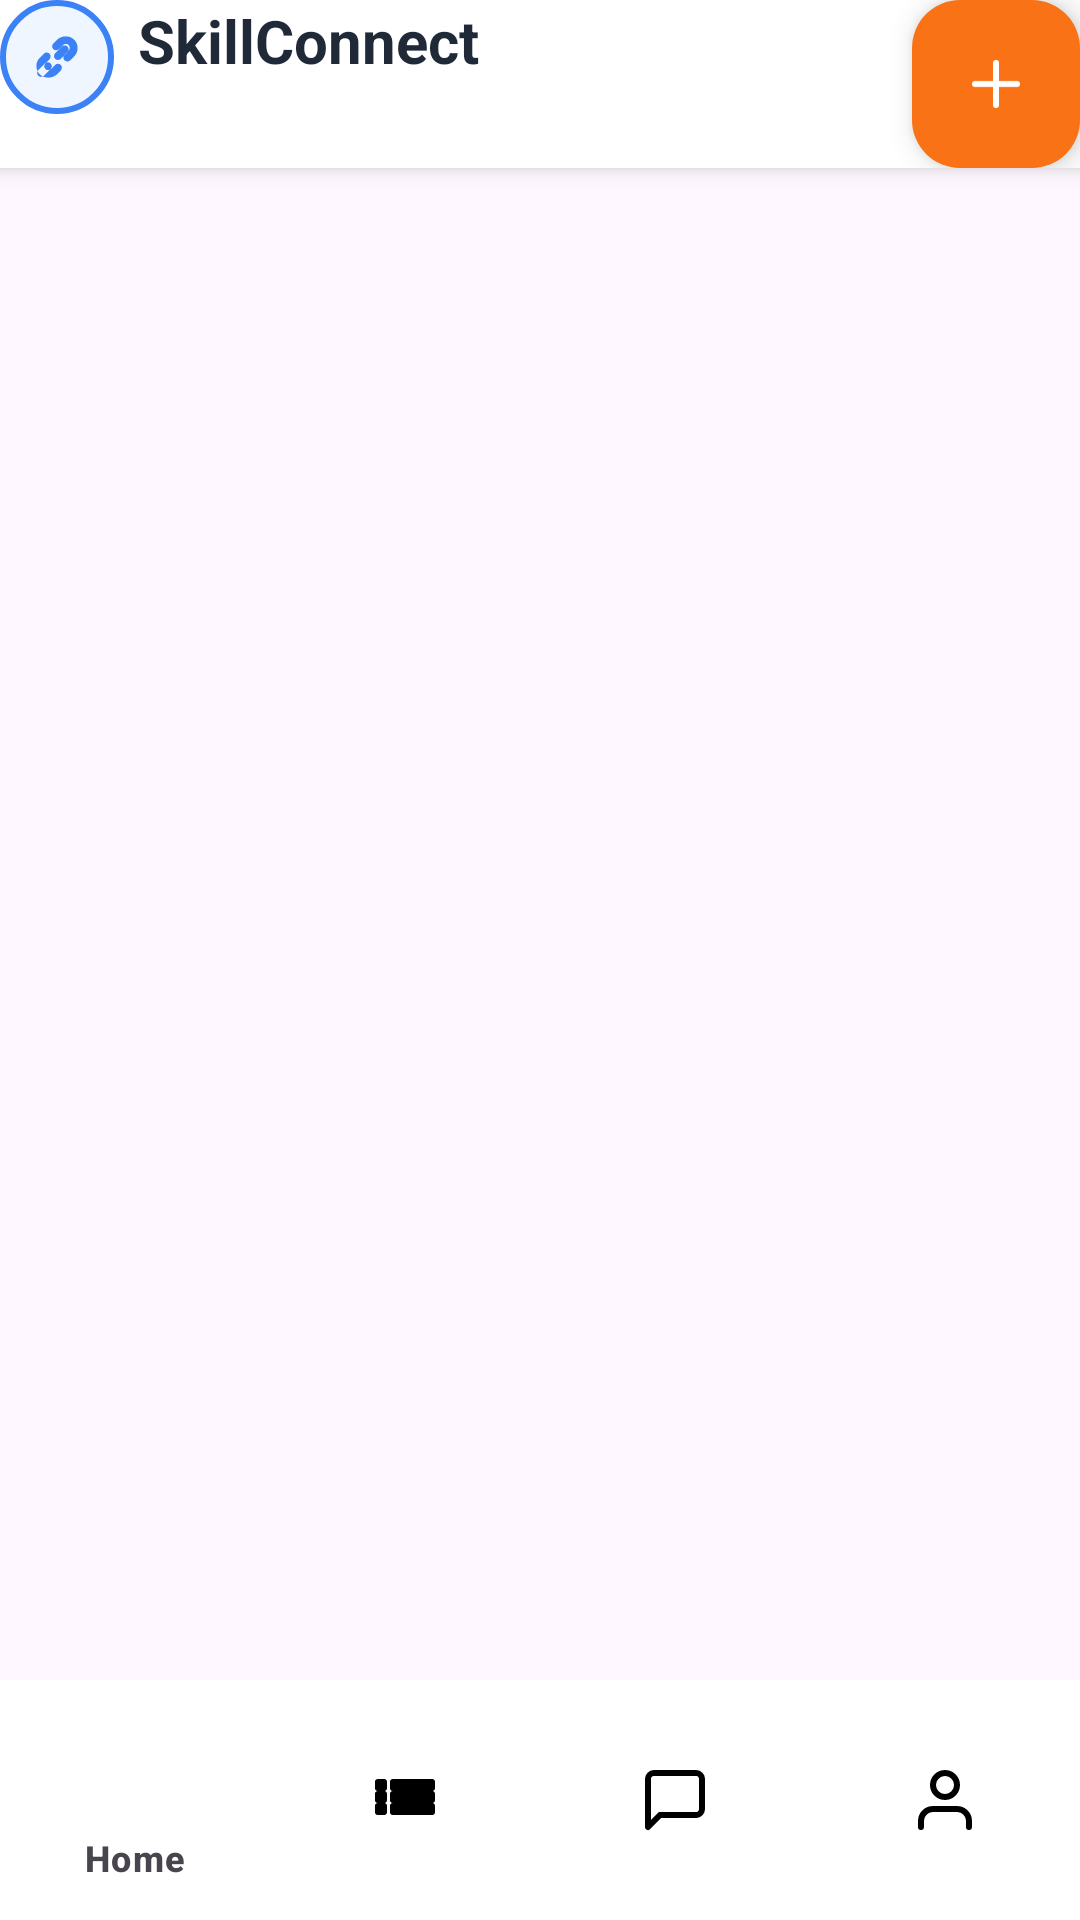

Icons on this 1080 x 1920 Android screen, each with its box as (x1, y1, x2, y2):
add: (912, 0, 1080, 168)
